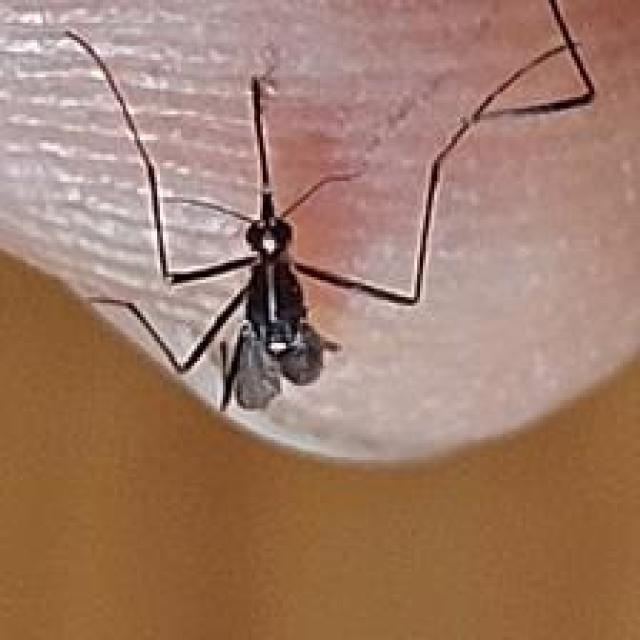Aedes albopictus: (58, 0, 595, 414)
